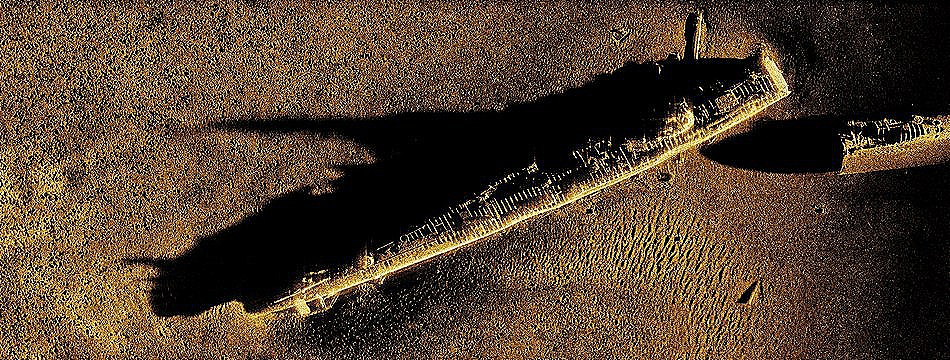ship: (250, 10, 950, 320)
